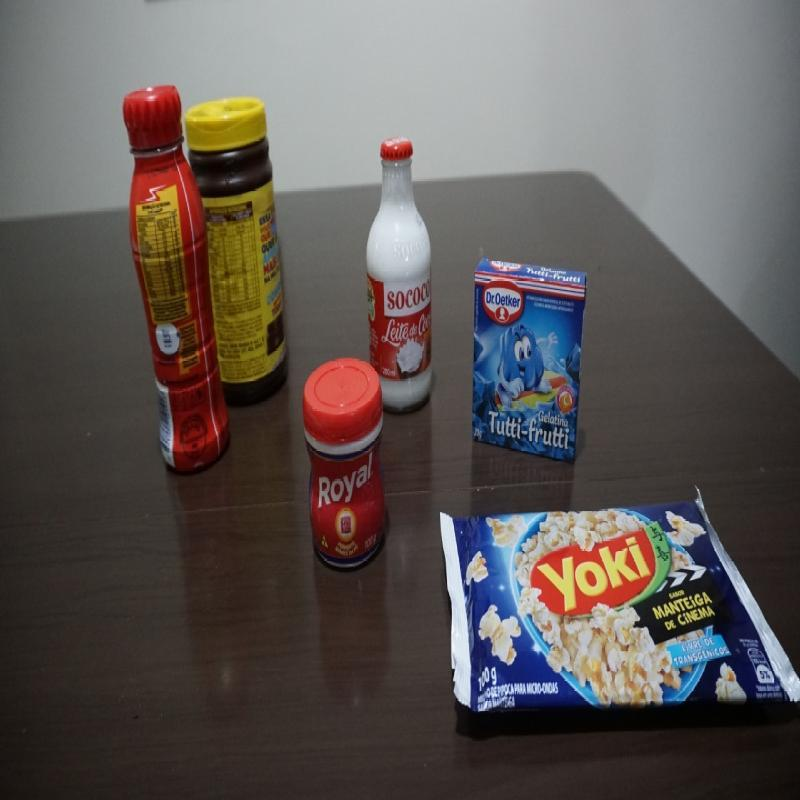Chocolate Milk: (119, 83, 234, 480)
Chocolate Powder: (184, 83, 292, 415)
Coconut Milk: (363, 132, 438, 415)
Gelatine: (471, 254, 590, 468)
Popcorn: (438, 482, 796, 718)
Yeast: (300, 356, 388, 570)
